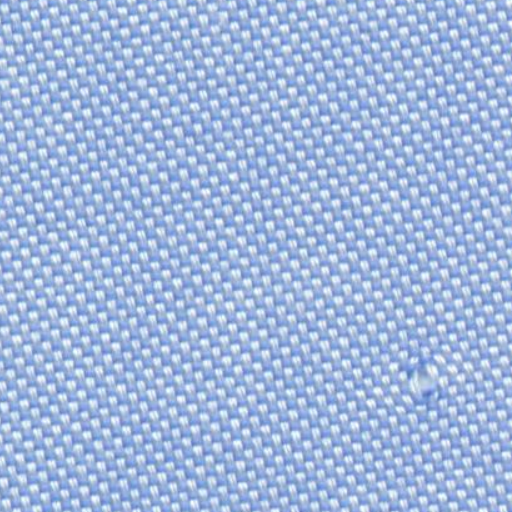PoDong: (392, 343, 466, 411)
